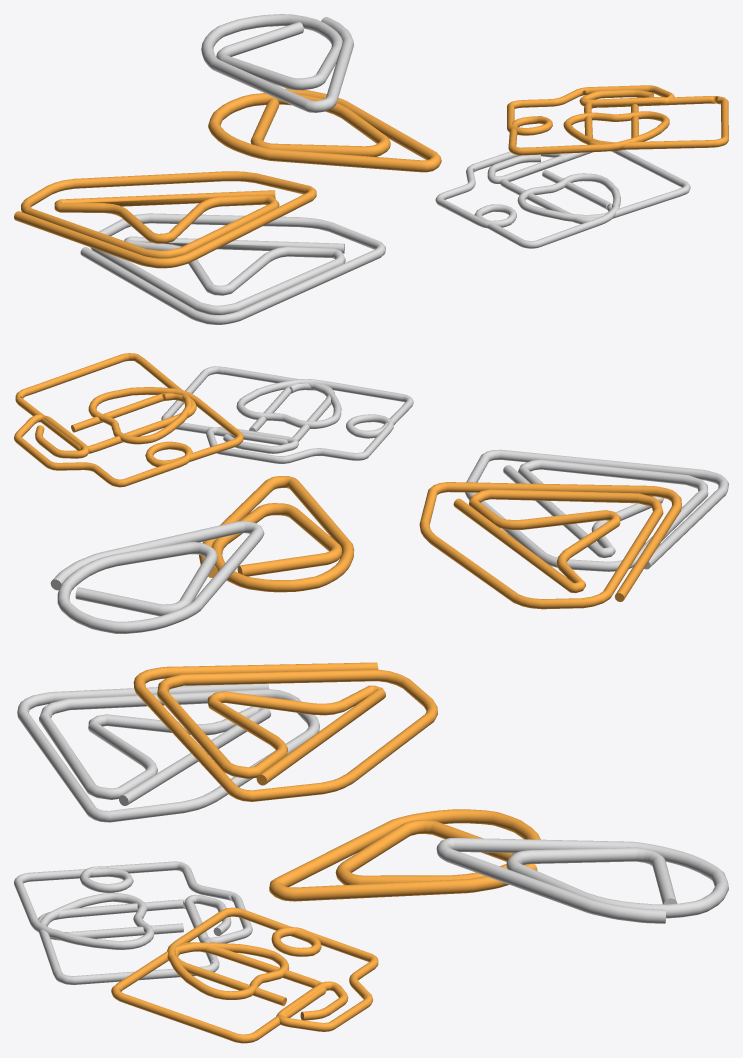
File: gem.gltf
The picture shows the model from 3 angles, top to bottom: view 1: azimuth 30°, elevation 25°; view 2: azimuth 150°, elevation 25°; view 3: azimuth 270°, elevation 25°; orthographic projection. The views are drawn at different scales.
Parts seen in each view (by area): view 1: gem; view 2: gem; view 3: gem.
Part boxes in pixels (left/top/right/bottom): gem: left=14, top=14, right=728, bottom=324; gem: left=14, top=353, right=728, bottom=633; gem: left=14, top=662, right=728, bottom=1043.
Bounding box in the file's own units: 0.3296 × 0.0157 × 0.2666.
